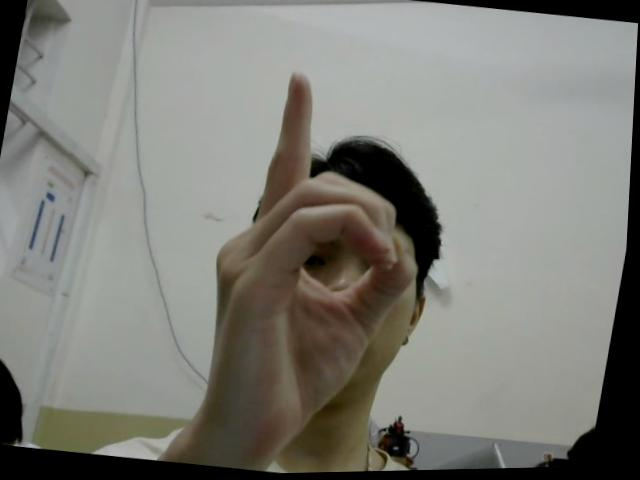D: (186, 62, 453, 458)
